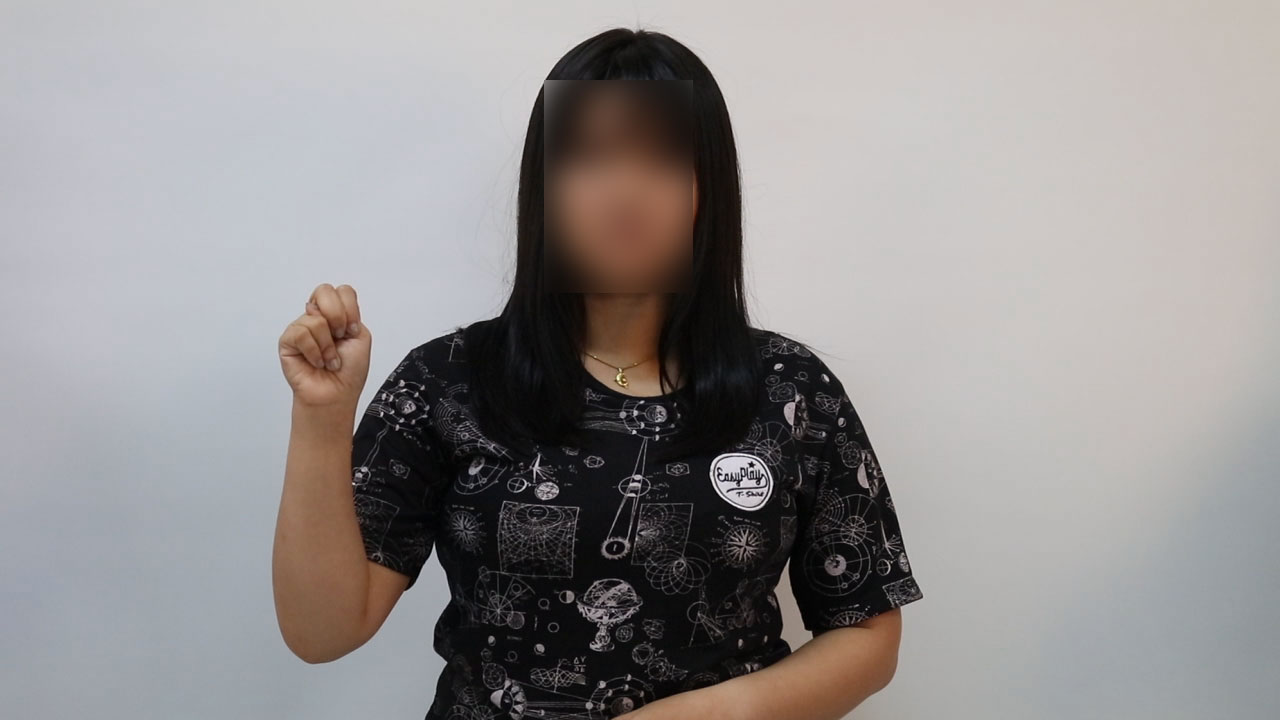nor: (273, 272, 382, 416)
